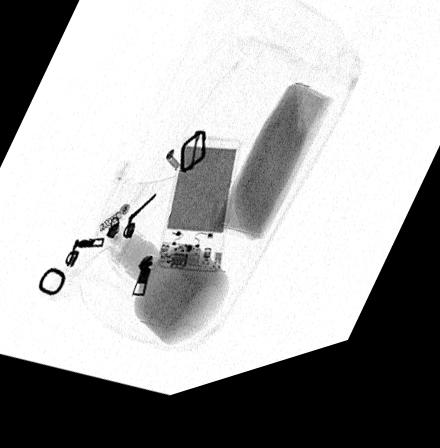Powerbank: (157, 147, 243, 286)
